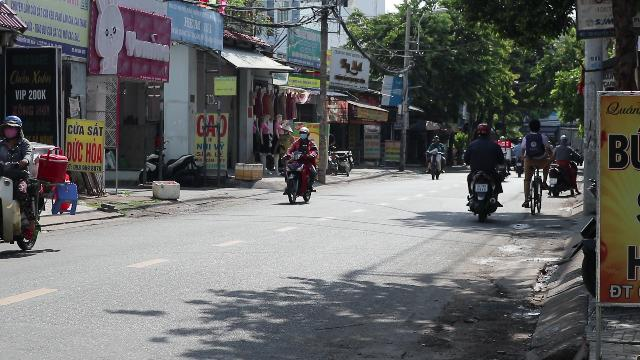helmet: (1, 115, 23, 142)
motorcyclist: (0, 114, 46, 259)
